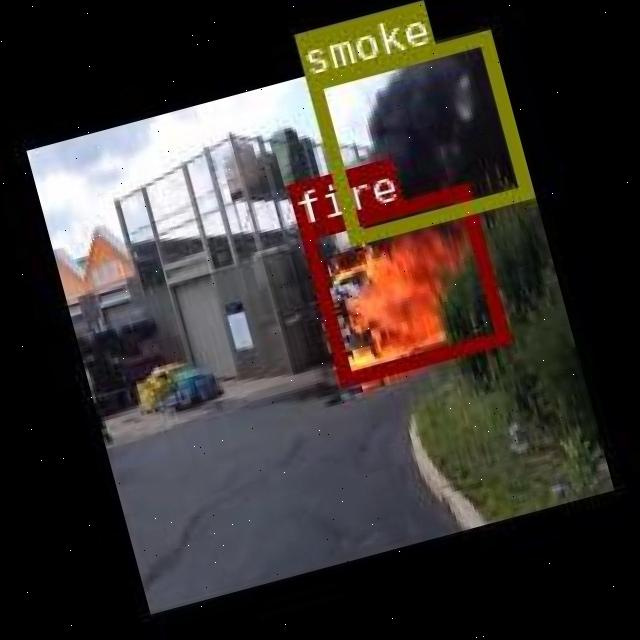fire: (297, 182, 508, 386)
smoke: (304, 28, 530, 243)
